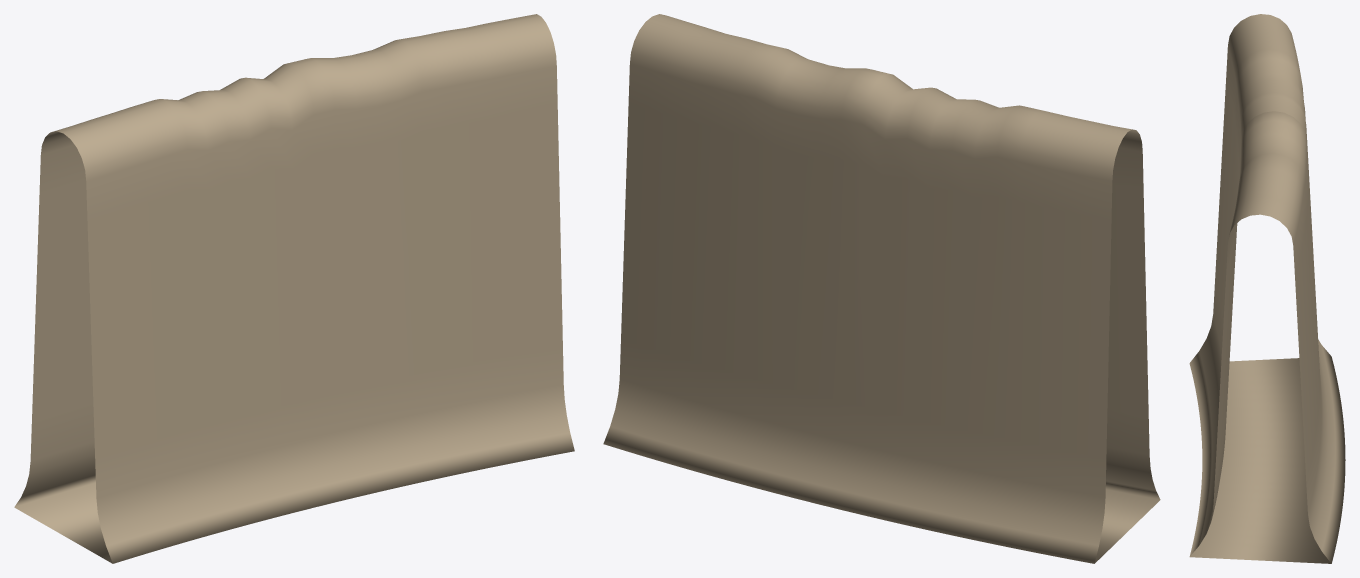
The model's file is KFB_Wall_curved_ring_r5.r1.glb.
3 renders of one model, left to right at view 1: azimuth 30°, elevation 25°; view 2: azimuth 150°, elevation 25°; view 3: azimuth 270°, elevation 25°, orthographic. The views are drawn at different scales.
Parts seen in each view (by area): view 1: KFB_Wall_curved_ring_r5; view 2: KFB_Wall_curved_ring_r5; view 3: KFB_Wall_curved_ring_r5.
Boxes of the visible parts, <box> form: KFB_Wall_curved_ring_r5: <box>14,14,574,563</box>; KFB_Wall_curved_ring_r5: <box>603,14,1160,563</box>; KFB_Wall_curved_ring_r5: <box>1189,14,1345,563</box>.
Size of the model in its own units: 4.63 by 3.63 by 1.47.
